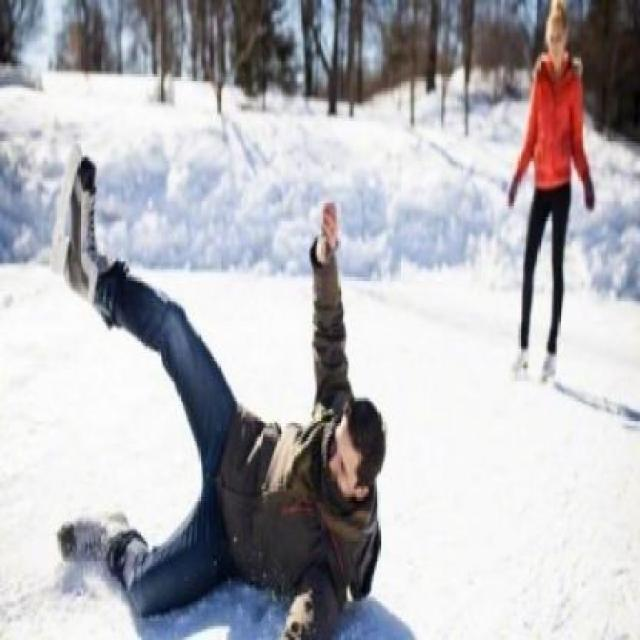fall: (49, 142, 388, 638)
